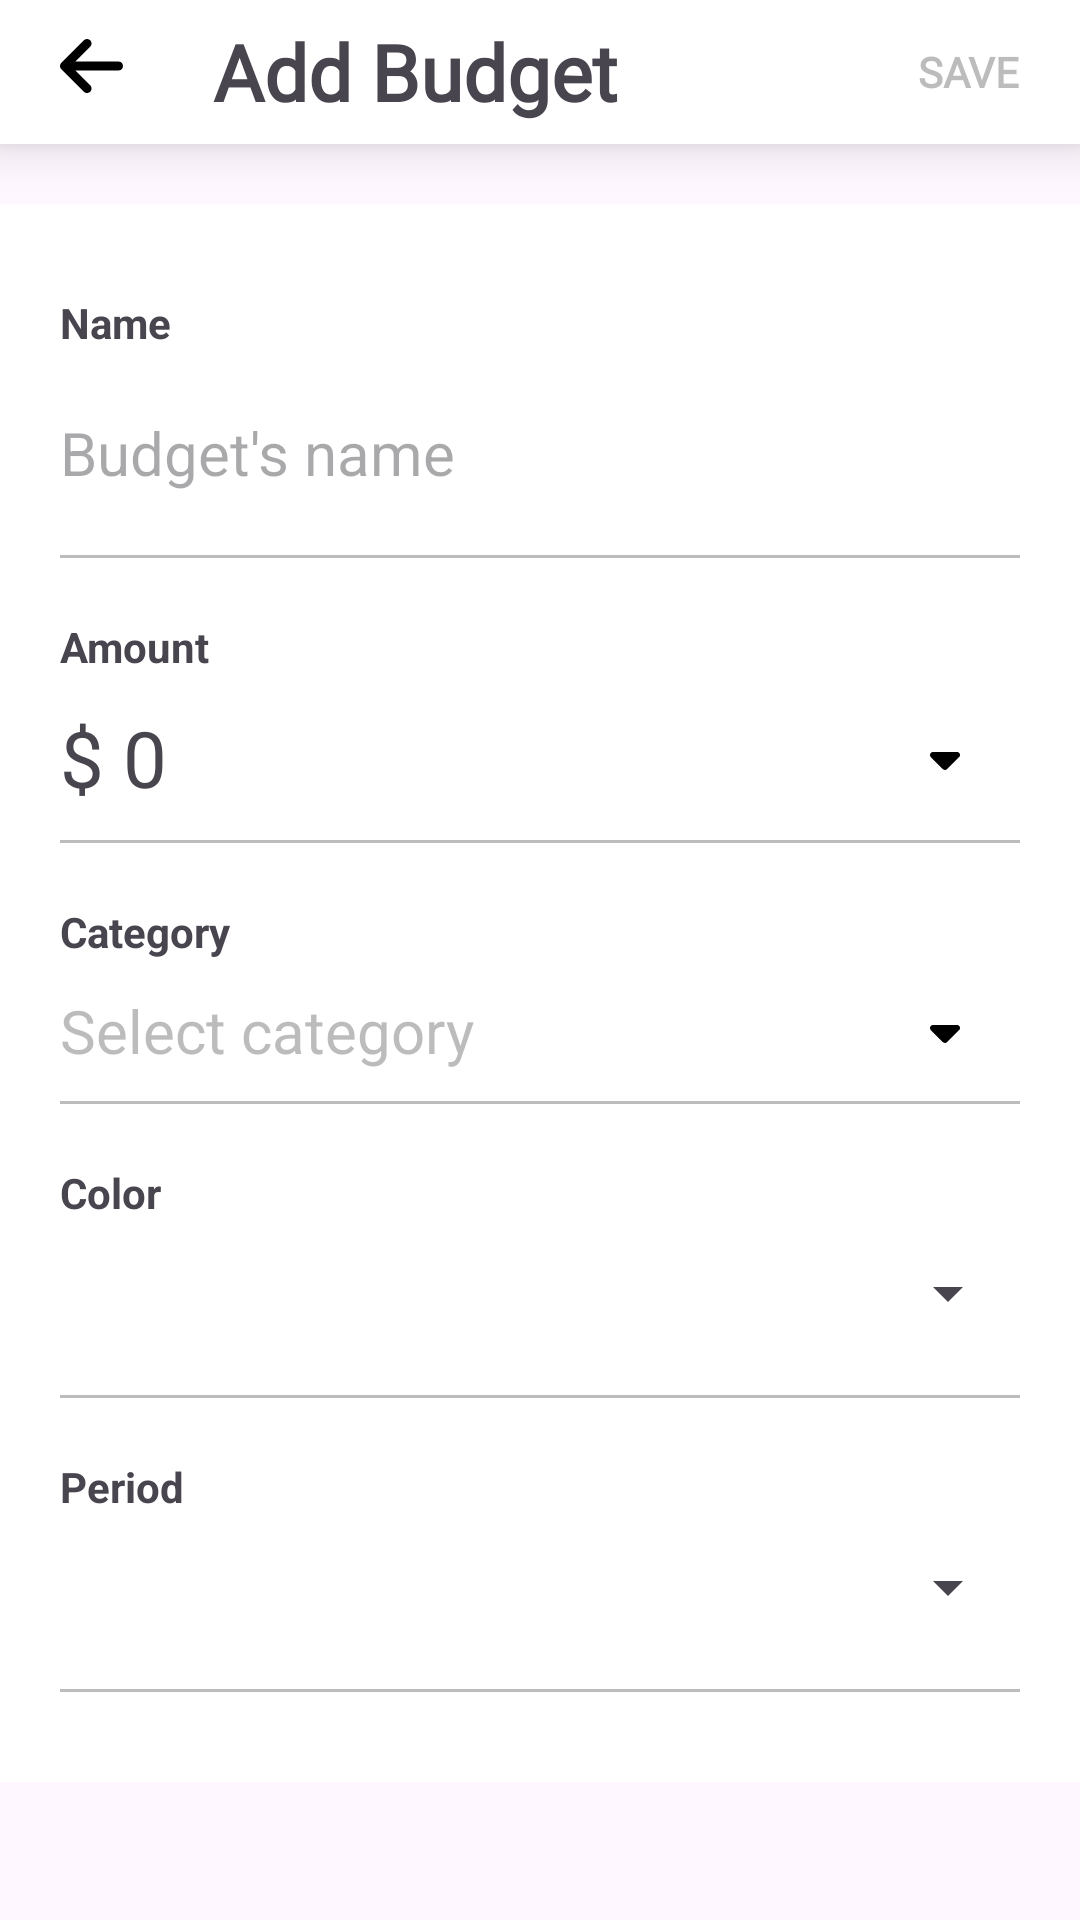

Screen size 1080px x 1920px. Icon name, then its center in pixels as (x,y):
arrow left: (91,66)
caret down: (945,761), (945,1034)
